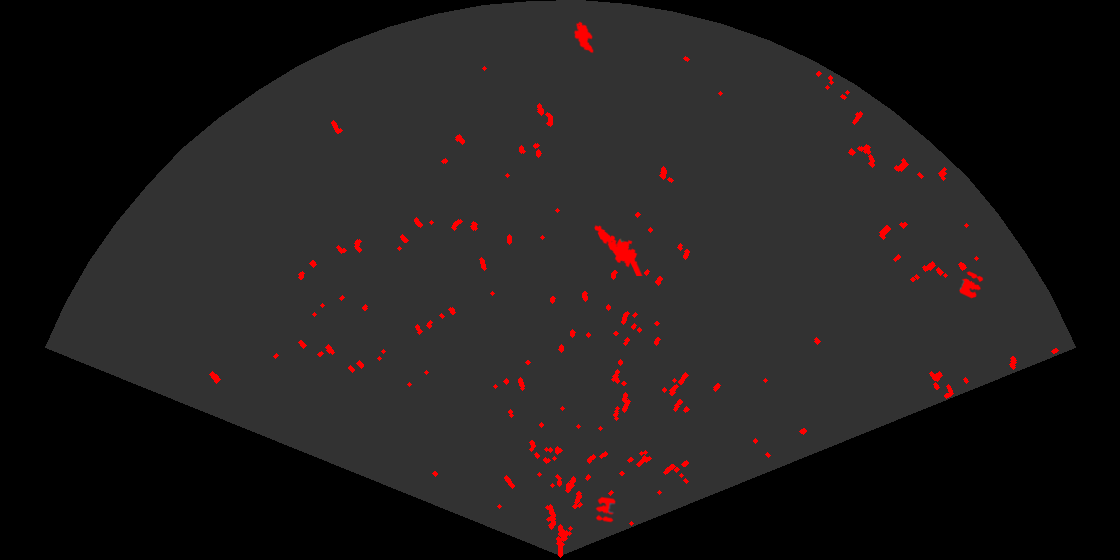AUV: (572, 20, 595, 55)
ball: (958, 270, 985, 300), (594, 495, 617, 524)
frogman: (593, 223, 644, 276)
